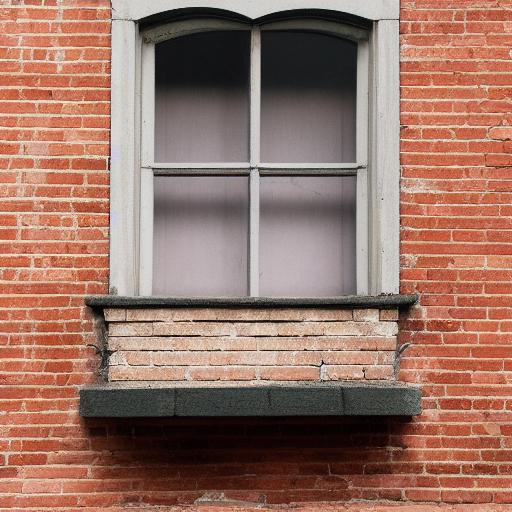Window: (77, 1, 422, 421)
